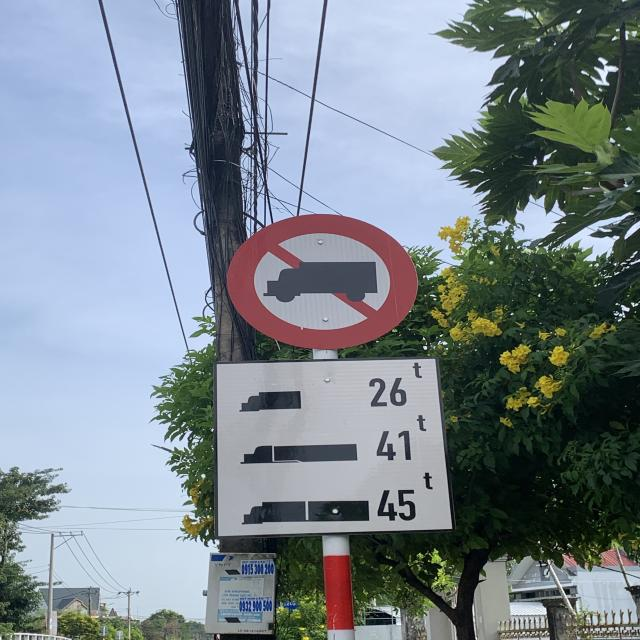Cam_Xe_Tai: (223, 213, 422, 349)
